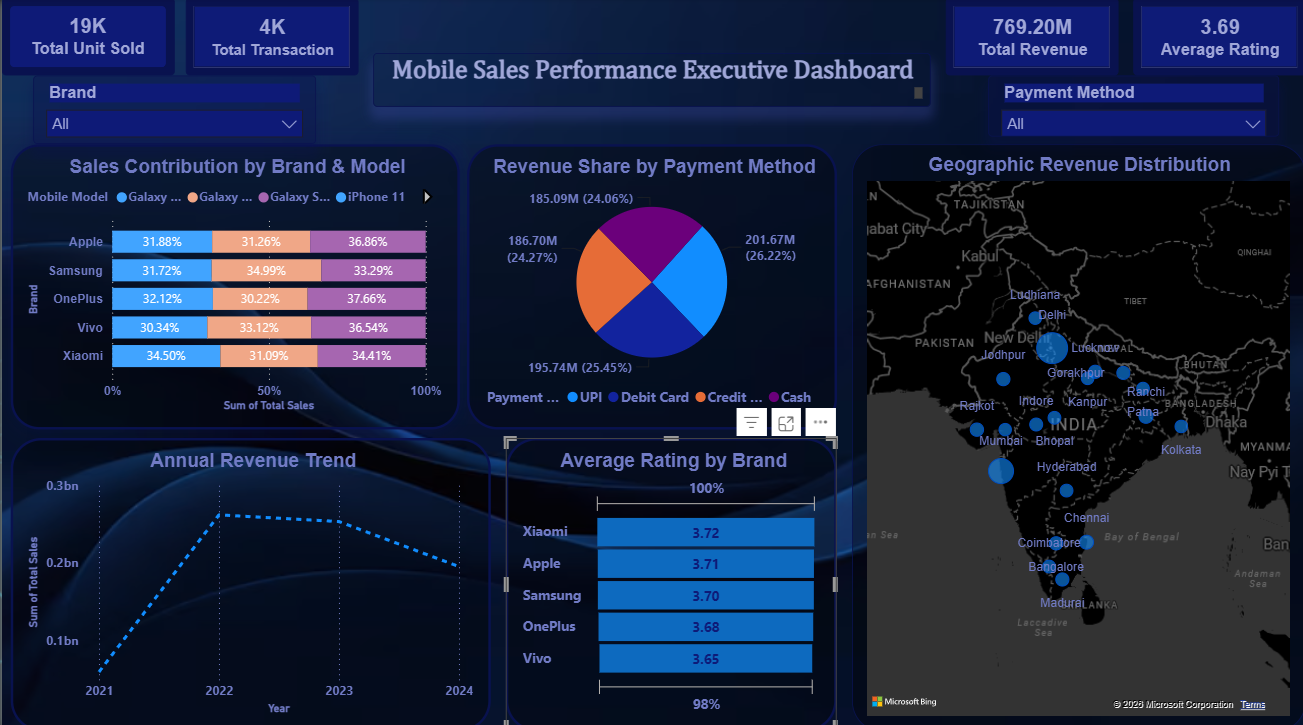

This screenshot's page, from the dashboard's own definition file:
{"tool":"powerbi","page":{"name":"Page 1","canvas":[1280,720],"ordinal":0},"visuals":[{"type":"hundredPercentStackedBarChart","title":"Sales Contribution by Brand & Model","fields":{"Category":["Sheet1.Brand"],"Series":["Sheet1.Mobile Model"],"Y":["Sum(Sheet1.Total Sales)"]},"box":[8.6,143.6,440.5,279.8],"z":0},{"type":"pieChart","title":"Revenue Share by Payment Method","fields":{"Category":["Sheet1.Payment Method"],"Y":["Sum(Sheet1.Total Sales)"]},"box":[456.4,143.6,363.2,279.8],"z":1000},{"type":"lineChart","title":"Annual Revenue Trend","fields":{"Y":["Sum(Sheet1.Total Sales)"],"Category":["Sheet1.Date.Variation.Date Hierarchy.Year","Sheet1.Date.Variation.Date Hierarchy.Quarter","Sheet1.Date.Variation.Date Hierarchy.Month","Sheet1.Date.Variation.Date Hierarchy.Day"]},"box":[8.6,431.9,471.2,288.3],"z":2000},{"type":"funnel","title":"Average Rating by Brand","fields":{"Y":["Sum(Sheet1.Customer Ratings)"],"Category":["Sheet1.Brand"]},"box":[494.5,431.9,325.2,288.3],"z":3000},{"type":"cardVisual","fields":{"Data":["Sheet1.Total Unit Sold"]},"box":[0,0,169.3,76.1],"z":4000},{"type":"cardVisual","fields":{"Data":["Sheet1.Total Transaction"]},"box":[180.4,0,169.3,76.1],"z":5000},{"type":"cardVisual","fields":{"Data":["Sheet1.Average Rating"]},"box":[926.4,0,169.3,76.1],"z":6000},{"type":"cardVisual","fields":{"Data":["Sheet1.Average Rating"]},"box":[1110.4,0,169.3,76.1],"z":7000},{"type":"textbox","title":"Mobile Sales Performance Executive Dashboard","box":[364.4,54.4,546.7,52.2],"z":8000},{"type":"slicer","fields":{"Values":["Sheet1.Brand"]},"box":[30.7,76.1,277.3,67.5],"z":9000},{"type":"slicer","fields":{"Values":["Sheet1.Payment Method"]},"box":[968.1,76.1,285.9,60.1],"z":10000},{"type":"map","title":"Geographic Revenue Distribution","fields":{"Category":["Sheet1.City"],"Size":["Sum(Sheet1.Total Sales)"]},"box":[834.4,143.6,445.4,576.7],"z":11000}]}

Visuals, with their boxes in screenshot pixels (x1, y1, x2, y2), scaled from the page's 1280x720 canvas onto the 1303x725 screenshot:
"Sales Contribution by Brand & Model" hundredPercentStackedBarChart: (9,145,457,426)
"Revenue Share by Payment Method" pieChart: (465,145,834,426)
"Annual Revenue Trend" lineChart: (9,435,488,724)
"Average Rating by Brand" funnel: (503,435,834,724)
cardVisual - Sheet1.Total Unit Sold: (0,0,172,77)
cardVisual - Sheet1.Total Transaction: (184,0,356,77)
cardVisual - Sheet1.Average Rating: (943,0,1115,77)
cardVisual - Sheet1.Average Rating: (1130,0,1302,77)
"Mobile Sales Performance Executive Dashboard" textbox: (371,55,927,107)
slicer - Sheet1.Brand: (31,77,314,145)
slicer - Sheet1.Payment Method: (985,77,1277,137)
"Geographic Revenue Distribution" map: (849,145,1302,724)
